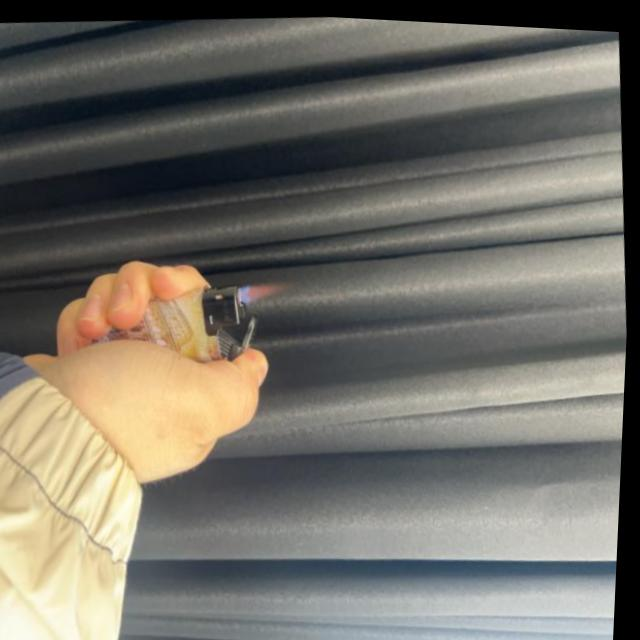Fire: (238, 275, 289, 304)
